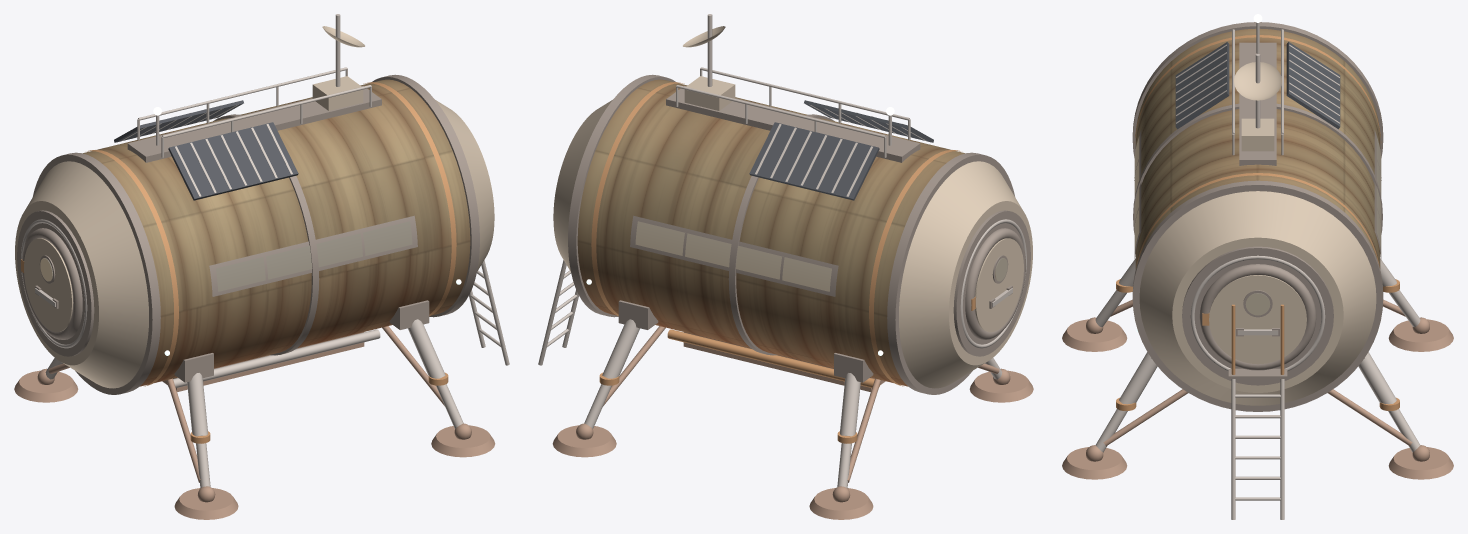
Rendered from W01_dust2_light.glb.
3 views of the same model, side by side, from view 1: azimuth 30°, elevation 25°; view 2: azimuth 150°, elevation 25°; view 3: azimuth 270°, elevation 25° (orthographic).
Visible parts, largest first — view 1: hull, endcone (×2), radiator_panel (×2), joint_ring (×2), window_strip, footpad (×3), roof_spine, hatch_door, end_ring, accent_stripe (×2), window_frame, leg_upper (×2) (+10 smaller); view 2: hull, endcone (×2), radiator_panel (×2), joint_ring (×2), window_strip, footpad (×3), roof_spine, hatch_door, end_ring, accent_stripe (×2), window_frame, leg_upper (×2) (+10 smaller); view 3: endcone, hull, joint_ring (×2), footpad (×4), hatch_door, radiator_panel (×2), end_ring, access_ladder, hatch_frame, roof_spine, leg_piston (×4), leg_upper (×2) (+9 smaller).
Part boxes in pixels (<box>): hull: <box>83,79,470,386</box>; endcone (×2): <box>15,100,494,388</box>; radiator_panel (×2): <box>114,100,298,200</box>; joint_ring (×2): <box>33,74,479,394</box>; window_strip: <box>216,221,412,291</box>; footpad (×3): <box>14,370,495,519</box>; roof_spine: <box>127,86,381,162</box>; hatch_door: <box>24,238,73,332</box>; end_ring: <box>17,210,94,356</box>; accent_stripe (×2): <box>87,82,456,386</box>; window_frame: <box>209,215,417,296</box>; leg_upper (×2): <box>187,319,445,436</box>; hull: <box>577,79,964,386</box>; endcone (×2): <box>553,100,1032,388</box>; radiator_panel (×2): <box>749,100,933,200</box>; joint_ring (×2): <box>568,74,1014,394</box>; window_strip: <box>635,221,831,291</box>; footpad (×3): <box>552,370,1033,519</box>; roof_spine: <box>666,86,920,162</box>; hatch_door: <box>975,238,1023,332</box>; end_ring: <box>953,210,1030,356</box>; accent_stripe (×2): <box>591,82,960,386</box>; window_frame: <box>630,215,838,296</box>; leg_upper (×2): <box>602,319,860,436</box>; endcone: <box>1139,191,1376,405</box>; hull: <box>1135,28,1380,268</box>; joint_ring (×2): <box>1132,22,1383,411</box>; footpad (×4): <box>1062,319,1453,479</box>; hatch_door: <box>1209,275,1306,364</box>; radiator_panel (×2): <box>1175,42,1340,129</box>; end_ring: <box>1182,246,1333,385</box>; access_ladder: <box>1231,304,1284,519</box>; hatch_frame: <box>1199,264,1316,370</box>; roof_spine: <box>1239,42,1276,165</box>; leg_piston (×4): <box>1095,290,1420,452</box>; leg_upper (×2): <box>1119,352,1396,404</box>.
Size of the model in its own units: 6.52 by 5.25 by 4.8.
Materials: 11 (1 with a texture image).
